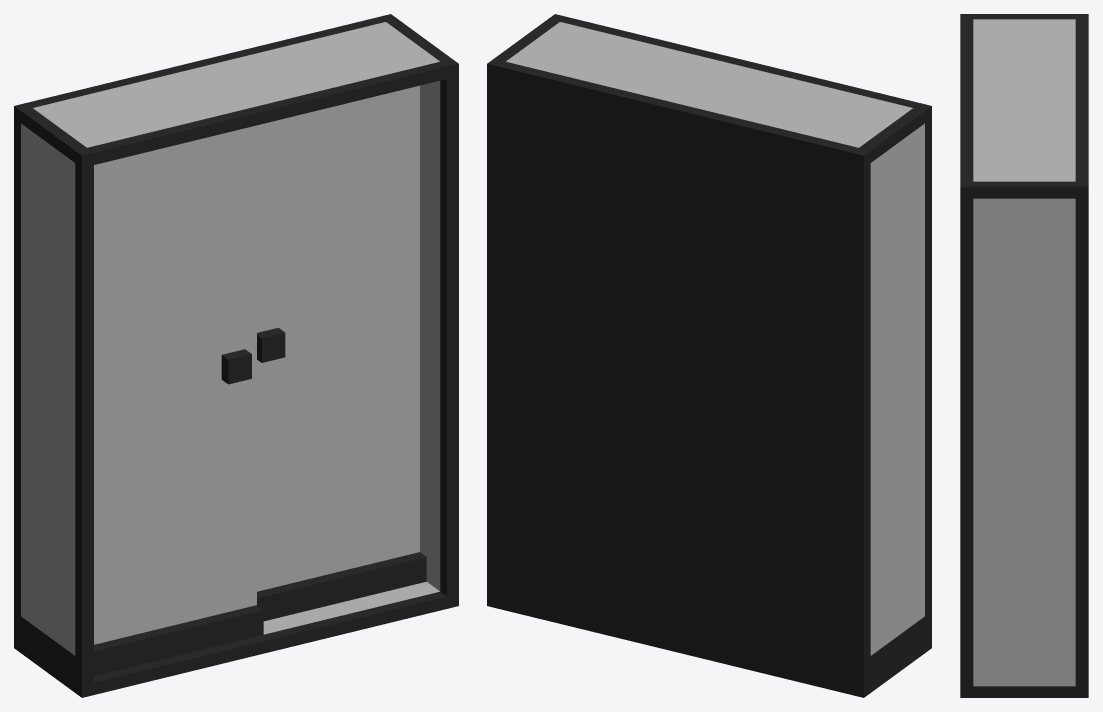
The model's file is dolap.obj.
3 views of the same model, side by side, from view 1: azimuth 30°, elevation 25°; view 2: azimuth 150°, elevation 25°; view 3: azimuth 270°, elevation 25° (orthographic). The views are drawn at different scales.
Bounding box in the file's own units: 32 × 44 × 10.
1 material, 1 textured.
